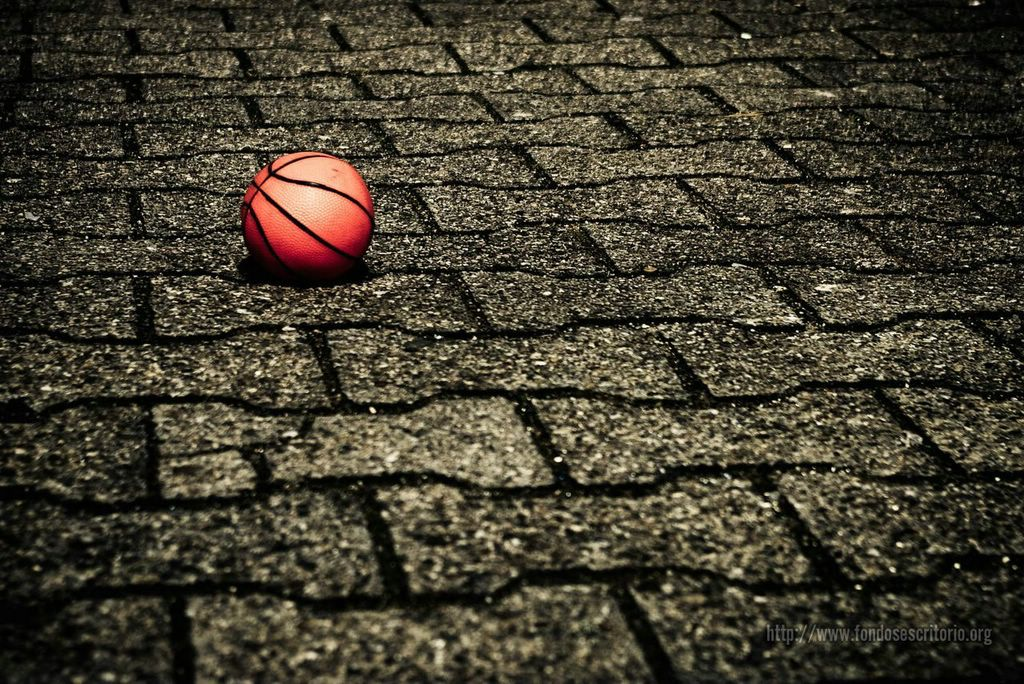basketball: (241, 150, 374, 277)
